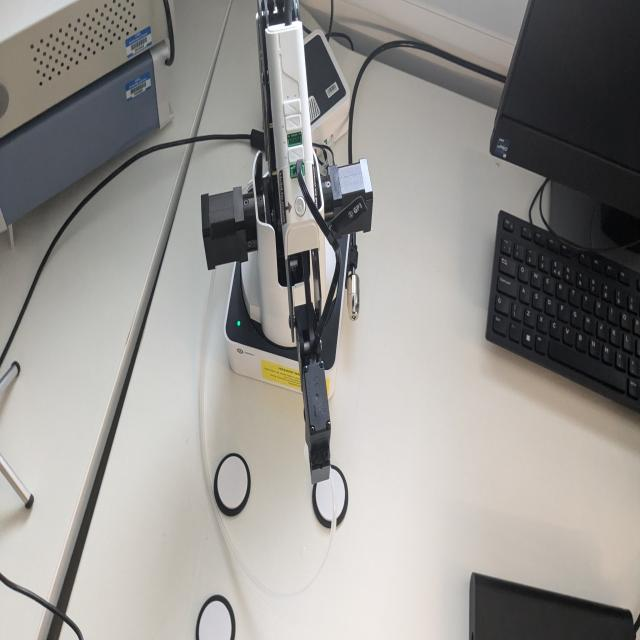Robot-end-effector-HF8z: (299, 358, 336, 488)
